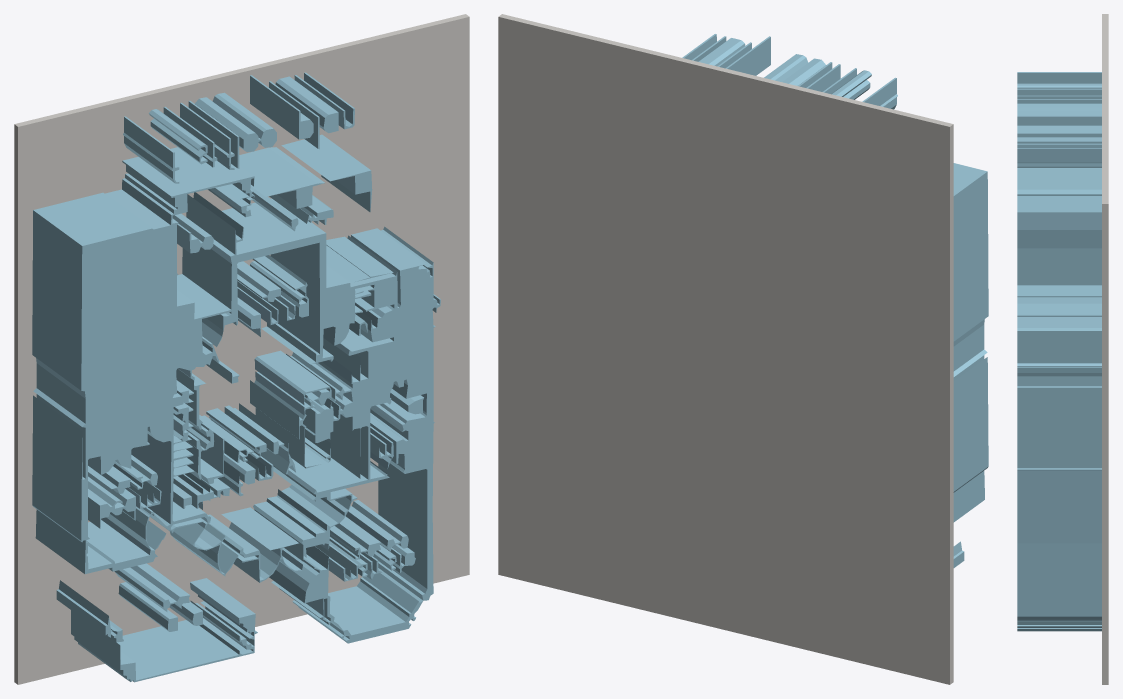
3 views of the same model, side by side, from view 1: azimuth 30°, elevation 25°; view 2: azimuth 150°, elevation 25°; view 3: azimuth 270°, elevation 25° (orthographic). The views are drawn at different scales.
Parts seen in each view (by area): view 1: world; view 2: world; view 3: world.
Boxes of the visible parts, box(x1,y1,x2,y2) form: world: box(14, 14, 469, 684); world: box(498, 14, 988, 684); world: box(1017, 14, 1108, 684).
Size of the model in its own units: 10.23 by 12.08 by 2.08.
